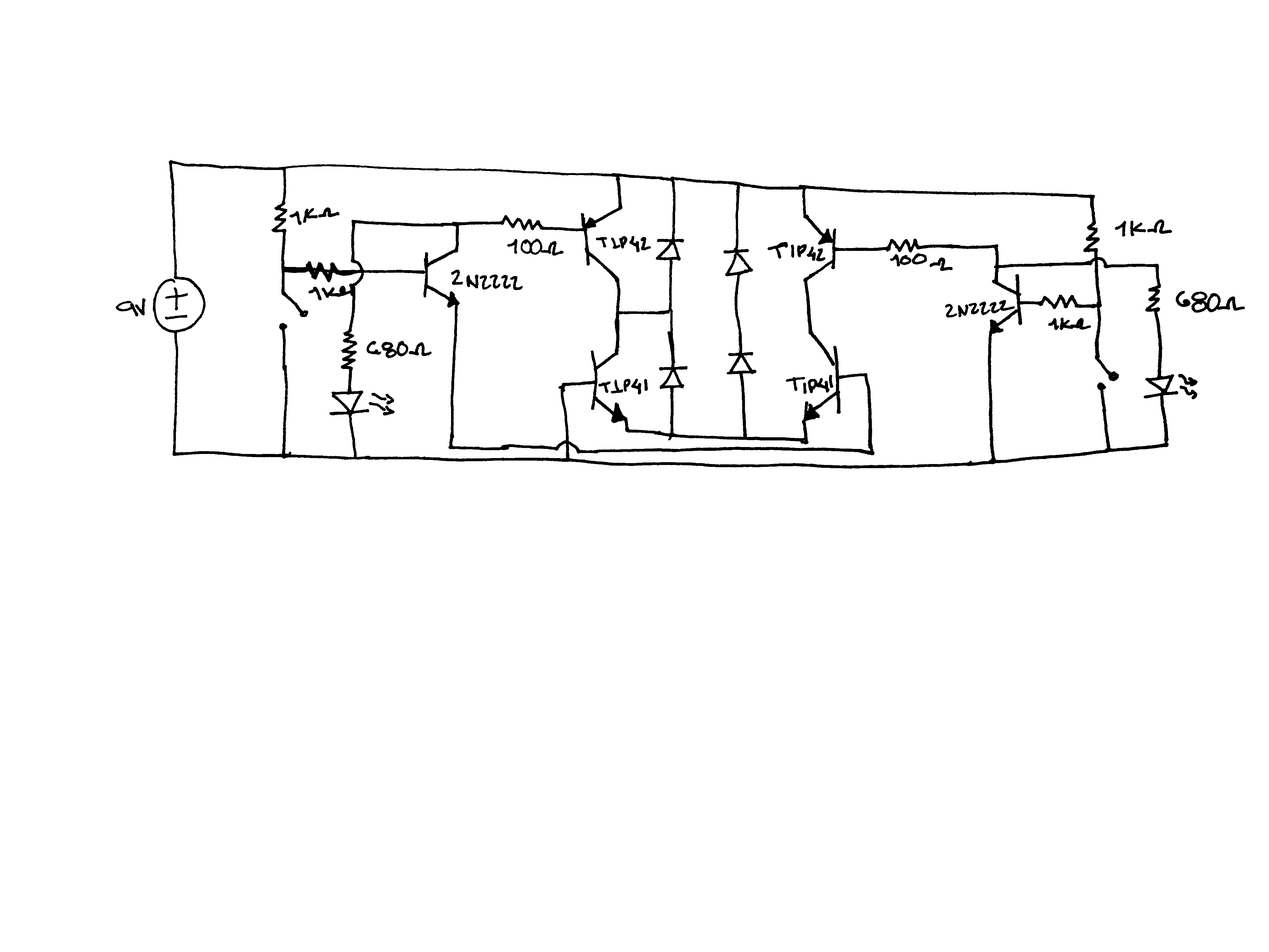crossover: (347, 257, 364, 289), (555, 438, 581, 456), (1086, 257, 1109, 269)
diode: (719, 246, 757, 278), (656, 362, 691, 393), (652, 235, 686, 264), (725, 349, 758, 378)
diode.light_emitting: (326, 386, 397, 420), (1141, 373, 1205, 401)
junction: (861, 443, 877, 459), (163, 153, 178, 169), (274, 449, 291, 463), (167, 443, 179, 462), (611, 169, 624, 184), (1100, 443, 1114, 456), (668, 173, 680, 188), (348, 216, 361, 229), (348, 452, 362, 464), (558, 379, 570, 393), (733, 178, 745, 192), (988, 456, 1001, 468), (445, 440, 457, 452), (991, 263, 1006, 272), (799, 434, 810, 446), (739, 432, 752, 442), (860, 369, 871, 380), (1153, 260, 1164, 271), (279, 264, 289, 276), (452, 220, 464, 230), (799, 183, 809, 195), (1093, 300, 1105, 310), (664, 305, 674, 316), (665, 429, 675, 440), (1087, 191, 1097, 202), (279, 163, 289, 173), (613, 307, 623, 317), (990, 242, 1001, 251), (1161, 440, 1170, 450), (563, 456, 572, 465)
resistor: (495, 211, 545, 235), (302, 256, 342, 285), (339, 328, 359, 375), (265, 199, 290, 236), (1034, 292, 1080, 312), (884, 235, 926, 256), (1082, 219, 1103, 256), (1145, 281, 1166, 318)
switch: (1087, 349, 1122, 396), (275, 289, 311, 334)
text: (448, 266, 523, 293), (1174, 289, 1240, 316), (765, 241, 829, 265), (945, 298, 1016, 318), (362, 338, 432, 358), (887, 252, 953, 273), (595, 234, 653, 254), (784, 375, 835, 396), (505, 239, 563, 257), (598, 377, 650, 397), (288, 206, 341, 225), (1113, 217, 1171, 234), (116, 299, 149, 321), (1047, 316, 1091, 332), (307, 286, 347, 301)
transistor.bjt: (802, 330, 848, 423), (577, 202, 626, 283), (588, 344, 630, 424), (798, 211, 839, 285), (984, 272, 1026, 343), (418, 247, 462, 310)
voltage.dc: (150, 274, 209, 335)
